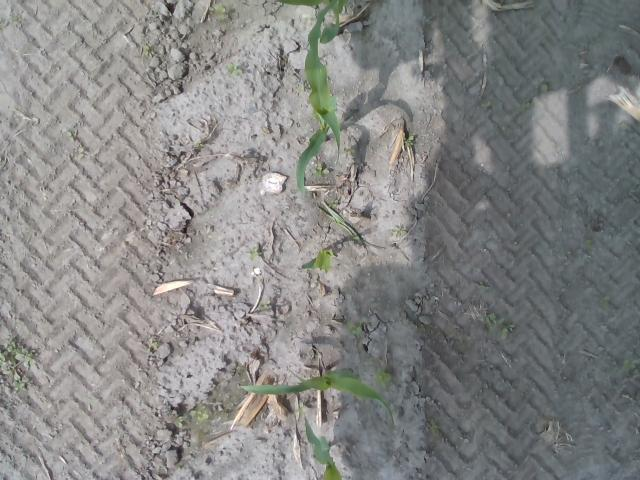Maize: (294, 0, 342, 193), (240, 366, 395, 425), (318, 199, 386, 254), (273, 0, 342, 44), (302, 414, 342, 480), (299, 247, 331, 277)
Weeds: (0, 340, 36, 394), (482, 313, 511, 338), (174, 408, 210, 426), (374, 367, 394, 390), (345, 319, 364, 336), (224, 63, 244, 77), (311, 166, 330, 178), (622, 358, 640, 370), (392, 226, 408, 236), (214, 4, 226, 17), (147, 338, 159, 350), (248, 247, 260, 259), (6, 14, 18, 24), (404, 135, 415, 144), (195, 139, 204, 148), (330, 200, 340, 208)
